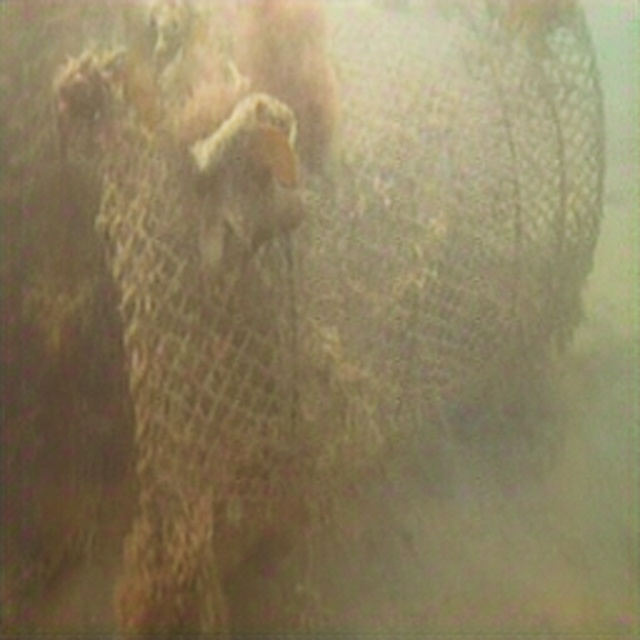mine: (55, 0, 608, 585)
